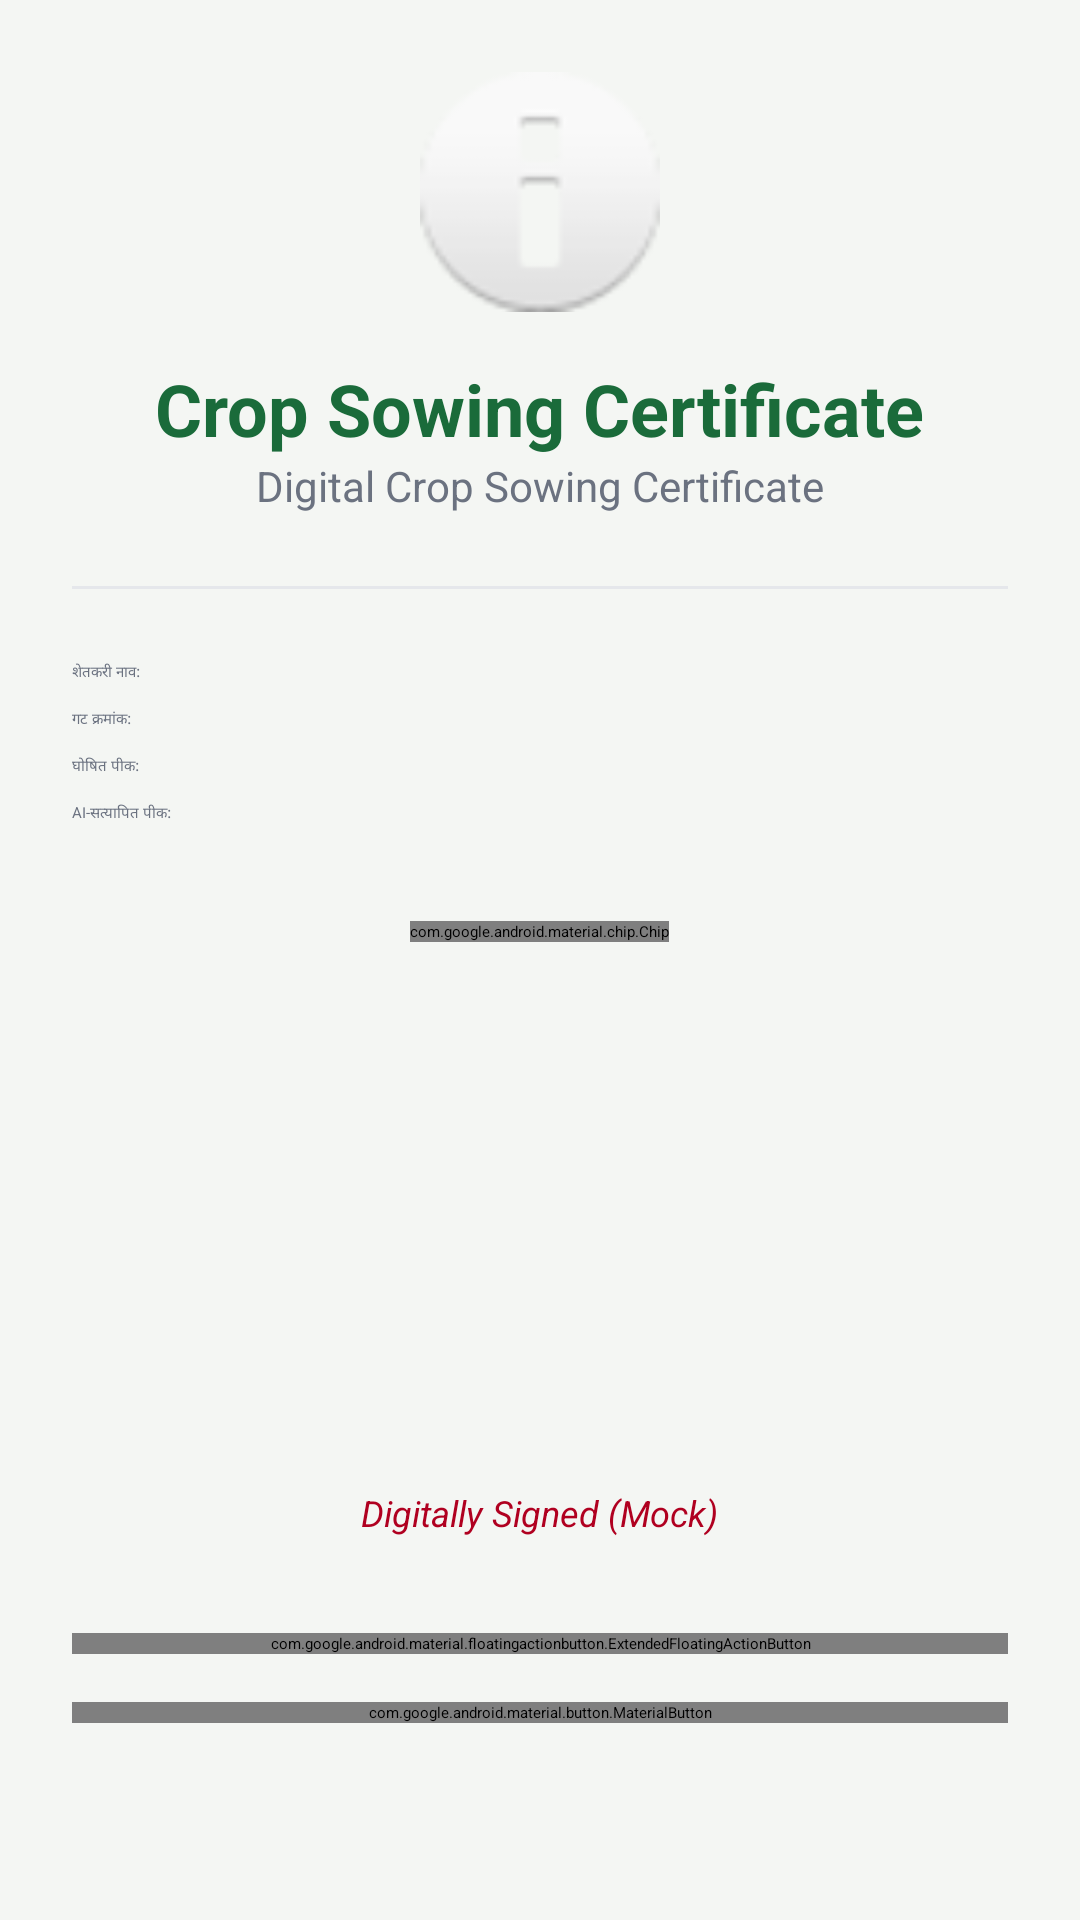

Screen size 1080px x 1920px. Icon name, then its box in pixels as (x1, y1, x2, y2):
info: (420, 117, 660, 312)
